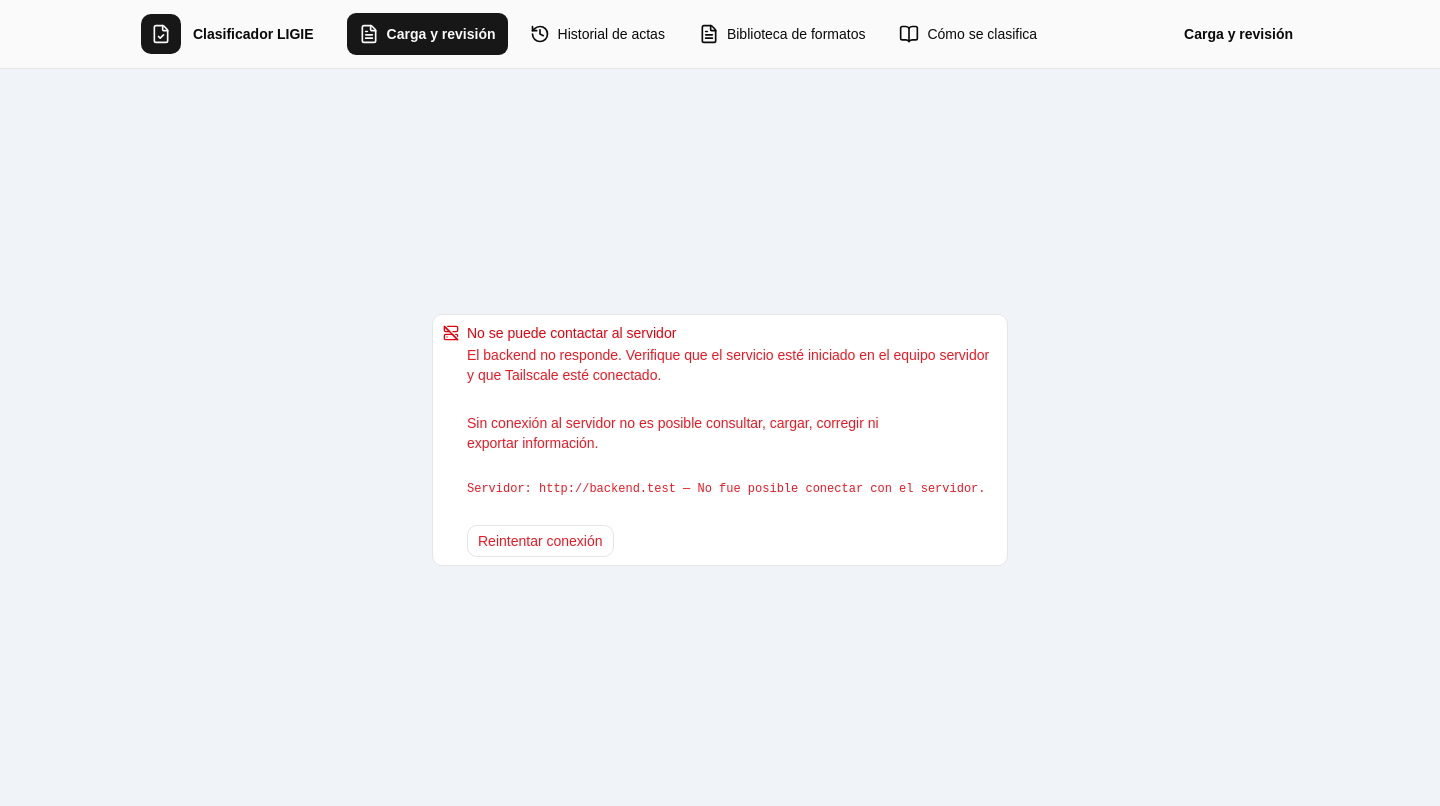
it: Importación de actas › bloquea sin servidor y permite reintentar
Check: the message shows "No se puede contactar al servidor", box [467,324,676,340]
Check: the message shows "http://backend.test", box [467,482,676,496]
Click the button "Reintentar conexión" at (540,540), box [467,524,614,556]
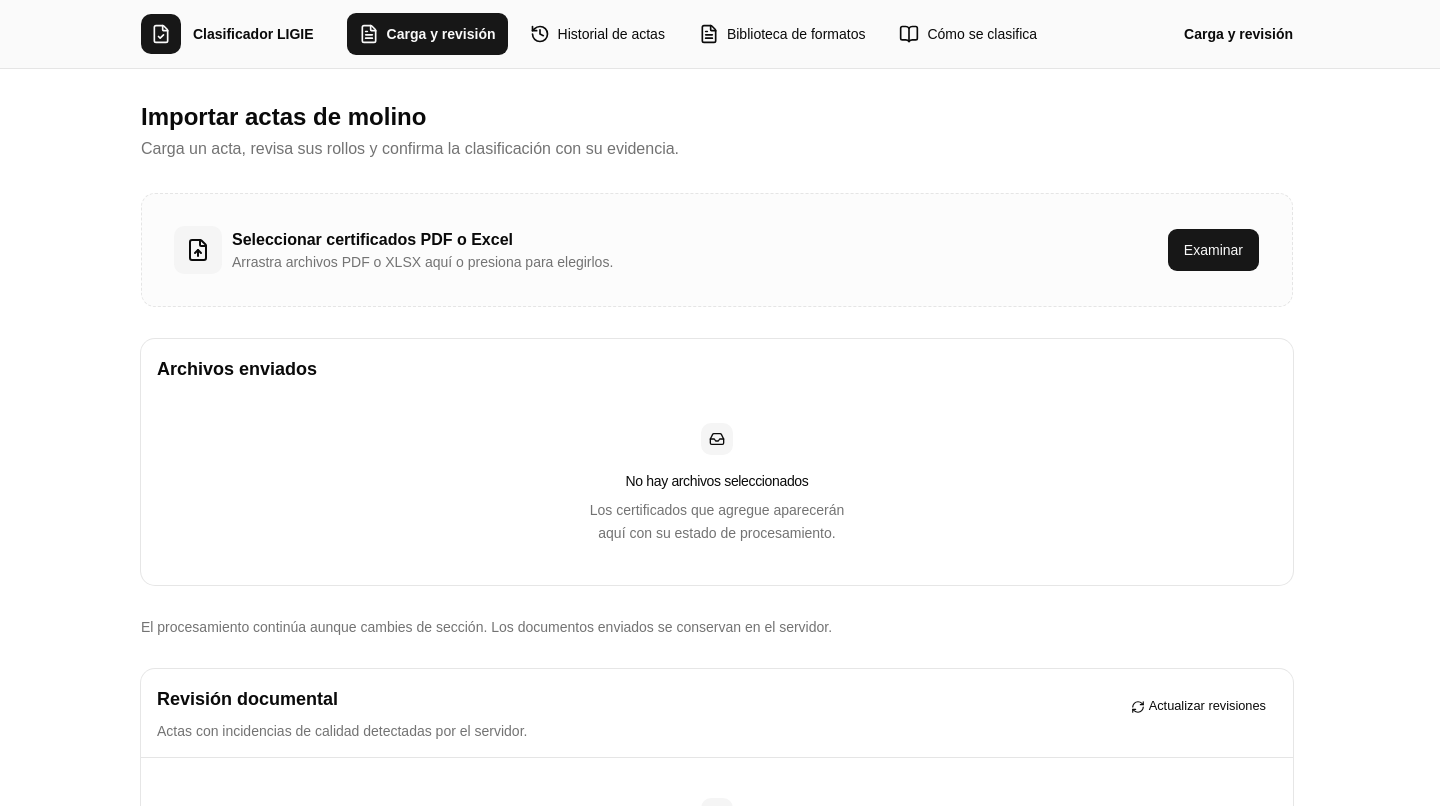
Check: the file field labelled "Seleccionar certificados PDF" is shown, box [141,193,1293,307]
